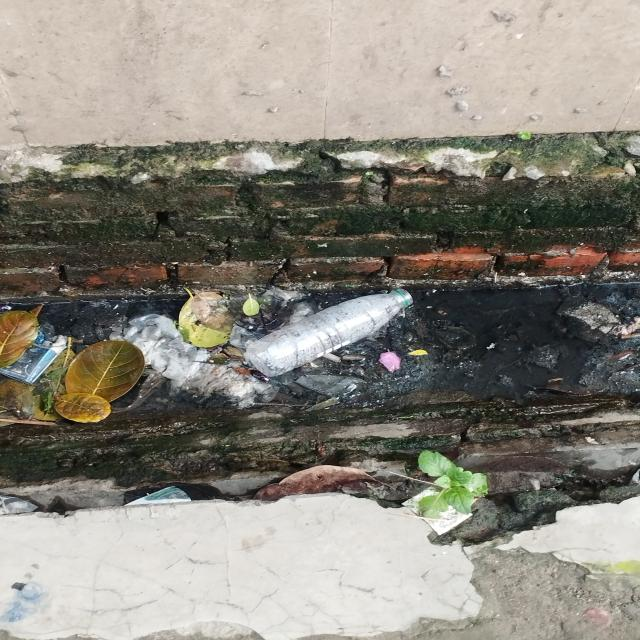plastic: (246, 278, 415, 379)
